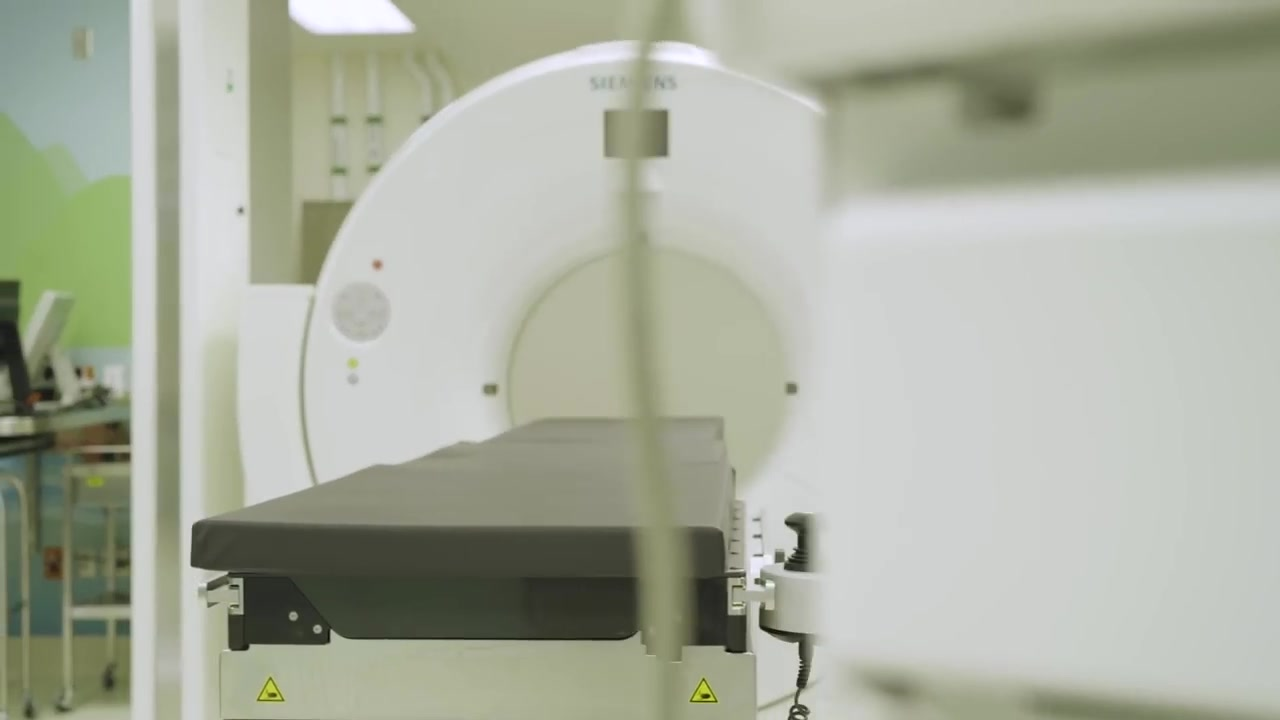xray_bed: (189, 417, 822, 719)
xray_machine: (299, 37, 823, 720)
